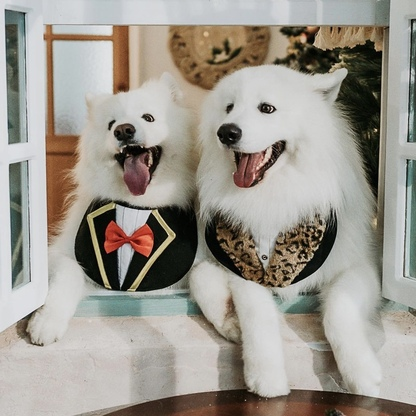samoyed: (194, 53, 394, 408), (20, 61, 199, 352)
